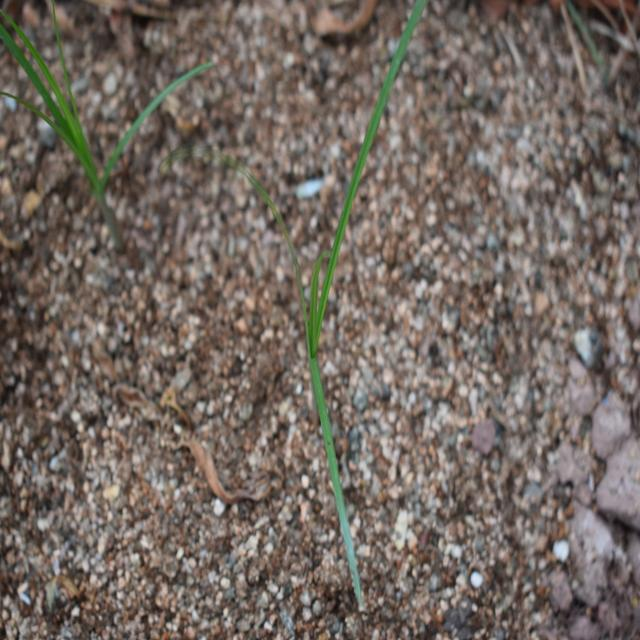sedge: (232, 10, 479, 608)
